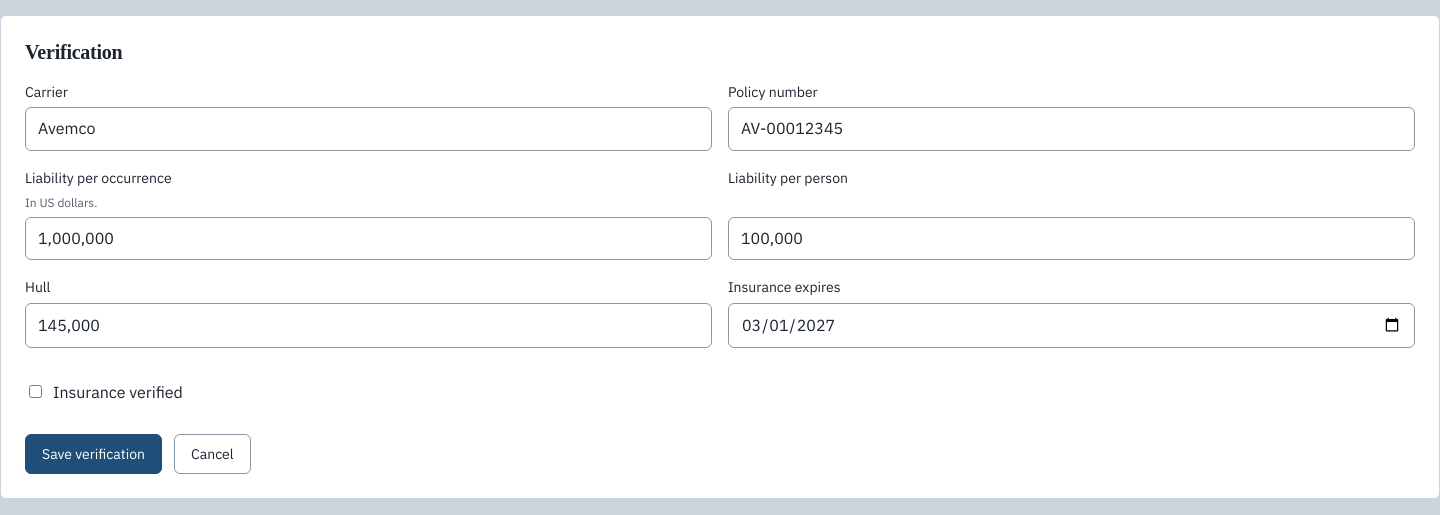
Test: InsuranceVerificationPanel › takes the box away when the expiry date is cleared
Clear the date field labelled "Insurance expires". click: (1072, 325)
box: [728,302,1415,348]
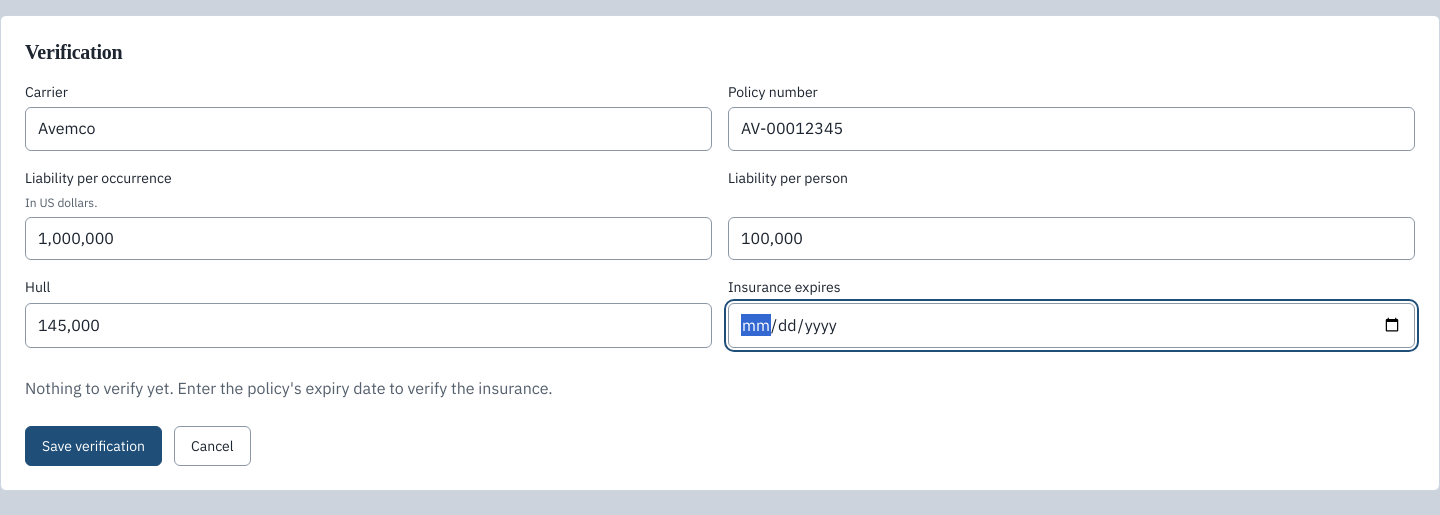
Result: the text labelled "Insurance verified" is gone
